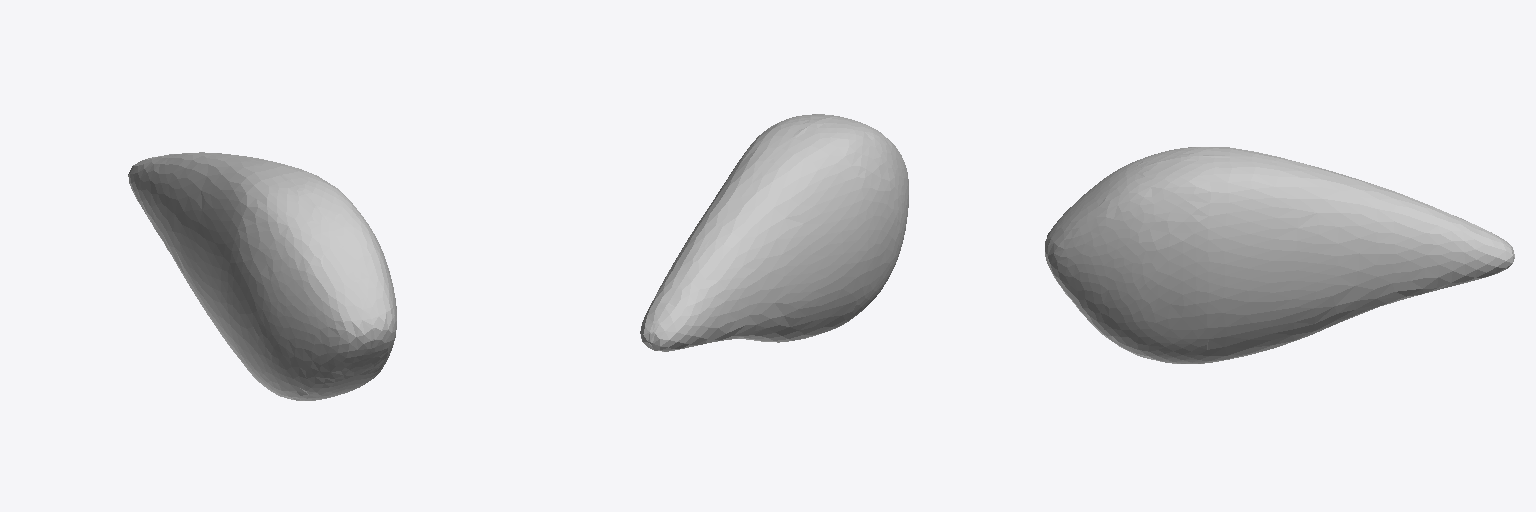
File: lure.obj
3 renders of one model, left to right at view 1: azimuth 30°, elevation 25°; view 2: azimuth 150°, elevation 25°; view 3: azimuth 270°, elevation 25°, orthographic.
Visible parts, largest first — view 1: Mighty_Bigery; view 2: Mighty_Bigery; view 3: Mighty_Bigery.
Boxes of the visible parts, <box> form: Mighty_Bigery: <box>128,152,396,400</box>; Mighty_Bigery: <box>640,114,908,351</box>; Mighty_Bigery: <box>1045,147,1514,363</box>.
Size of the model in its own units: 16.02 by 23.58 by 50.11.